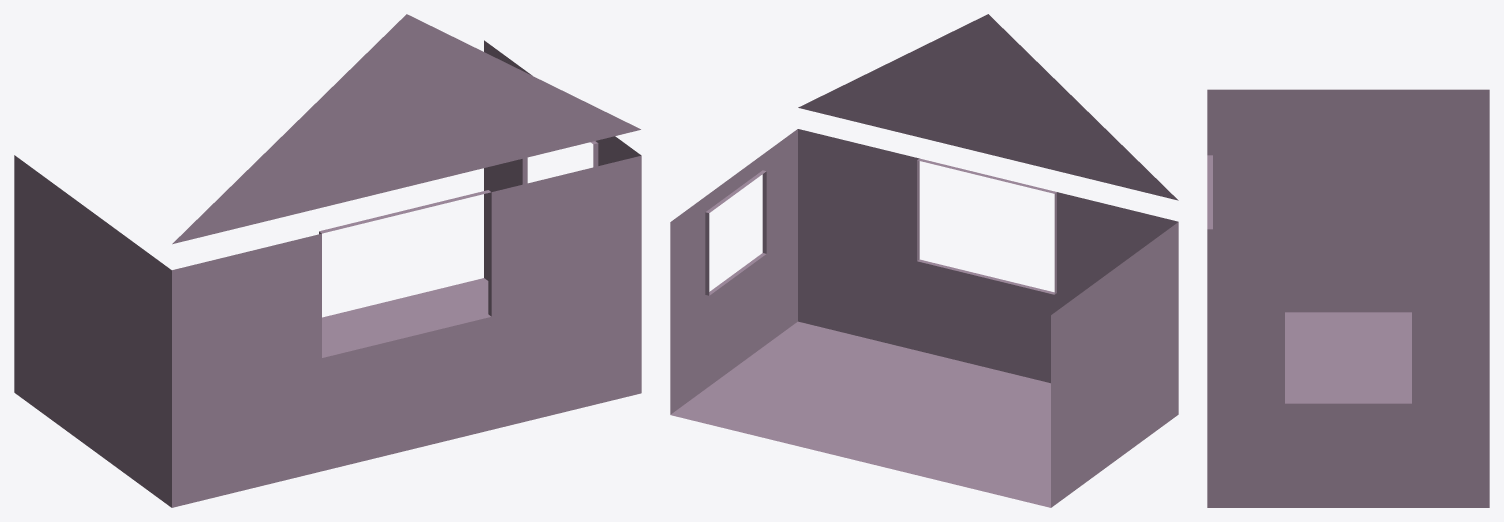
The model's file is SideBuildingFBX.fbx.
3 views of the same model, side by side, from view 1: azimuth 30°, elevation 25°; view 2: azimuth 150°, elevation 25°; view 3: azimuth 270°, elevation 25° (orthographic). The views are drawn at different scales.
Parts seen in each view (by area): view 1: polySurface37, polySurface38; view 2: polySurface37, polySurface38; view 3: polySurface37.
Part boxes in pixels (<box>): polySurface37: <box>14,40,641,507</box>; polySurface38: <box>172,14,640,244</box>; polySurface37: <box>670,129,1178,507</box>; polySurface38: <box>798,14,1178,200</box>; polySurface37: <box>1207,89,1489,507</box>.
Bounding box in the file's own units: 3.2 × 2.84 × 1.86.
